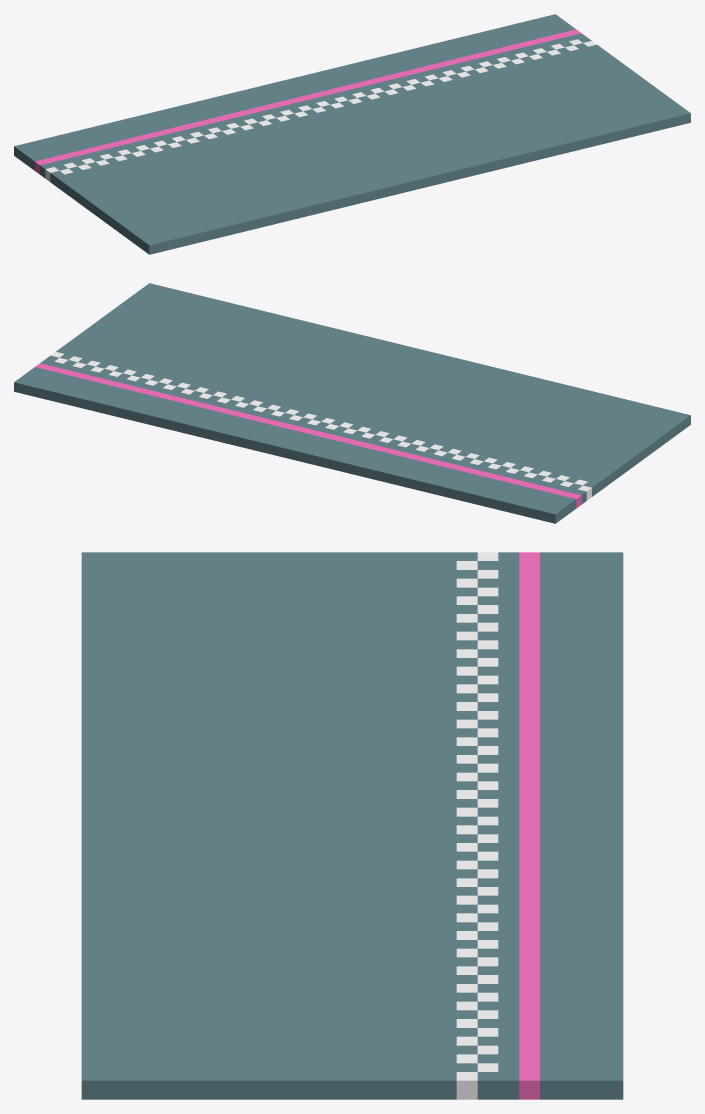
The model's file is startpoint.obj.
3 views of the same model, one above another, from view 1: azimuth 30°, elevation 25°; view 2: azimuth 150°, elevation 25°; view 3: azimuth 270°, elevation 25° (orthographic). The views are drawn at different scales.
Bounding box in the file's own units: 60 × 1 × 26.
